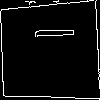I: (24, 26, 75, 41)
